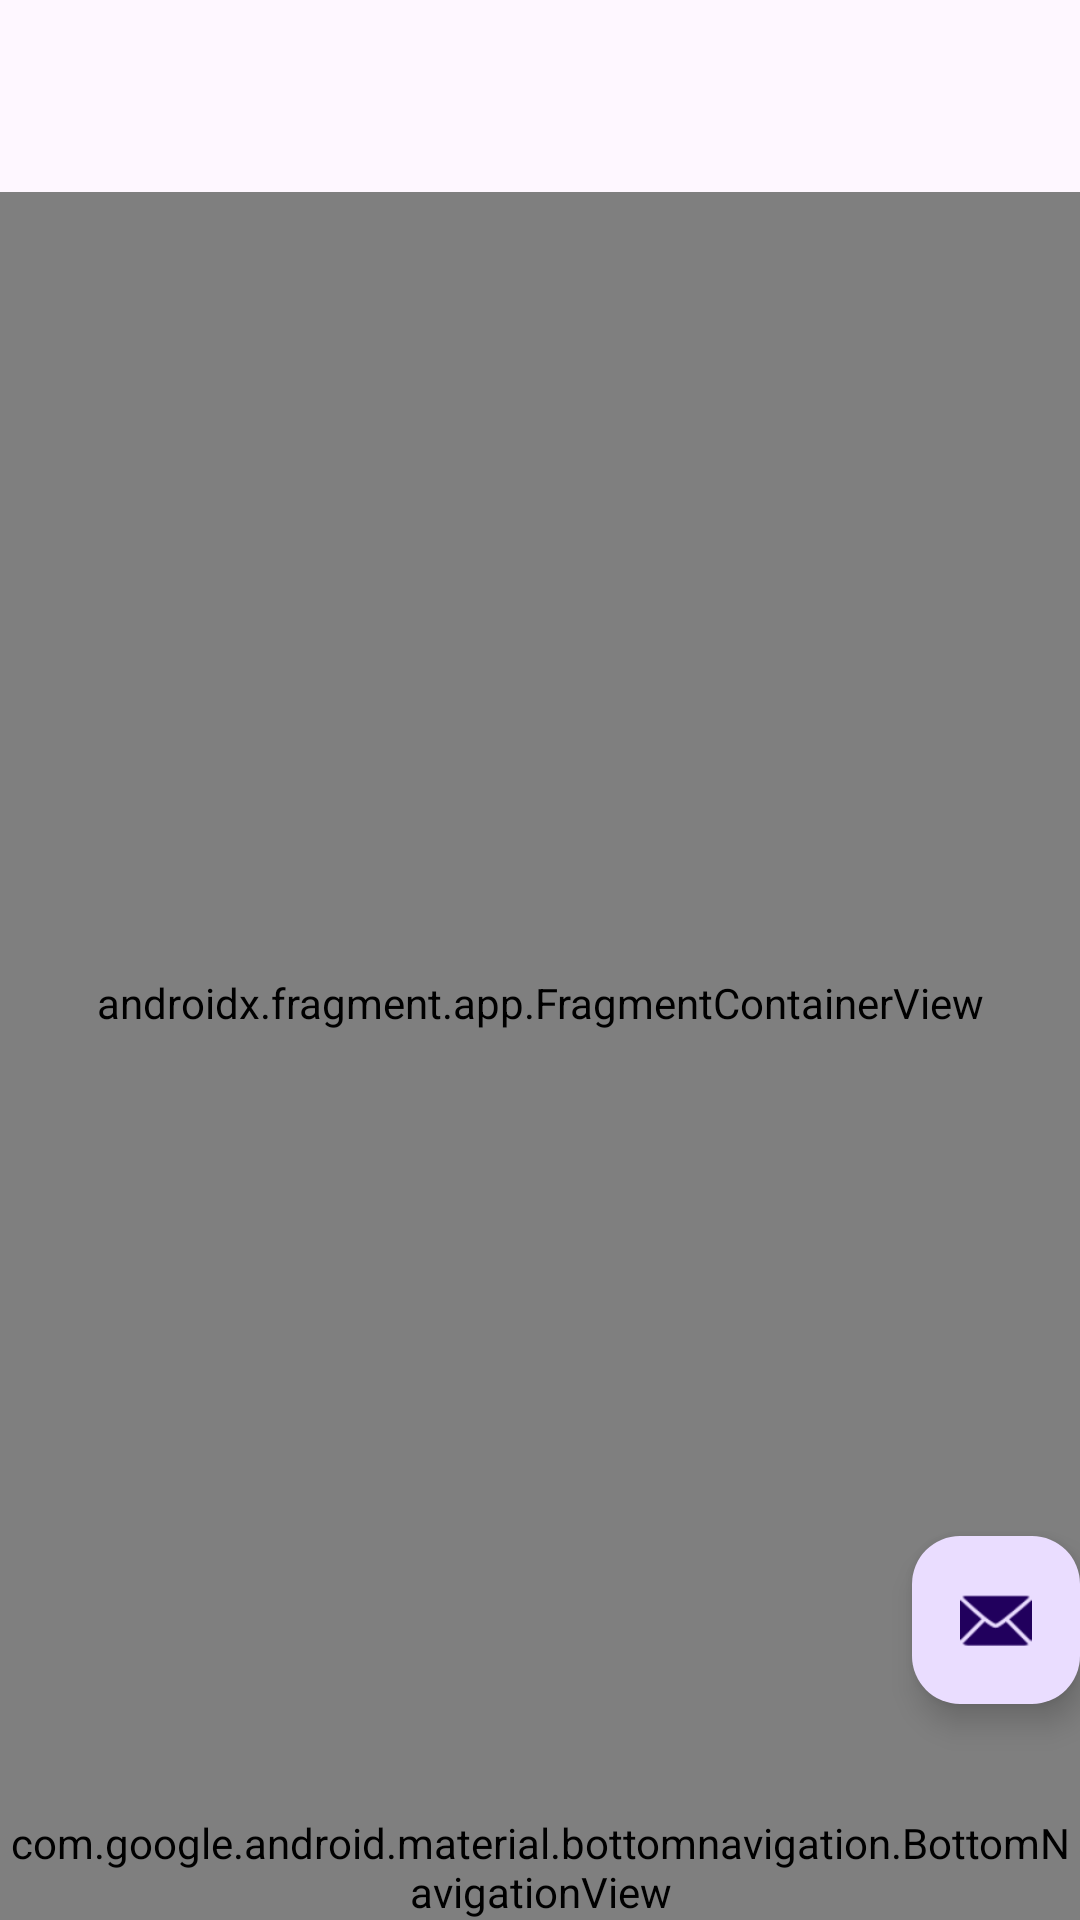

Icons on this 1080×1920 Android screen, each with the point to tap as (x=x, y=y):
email: (x=996, y=1620)
